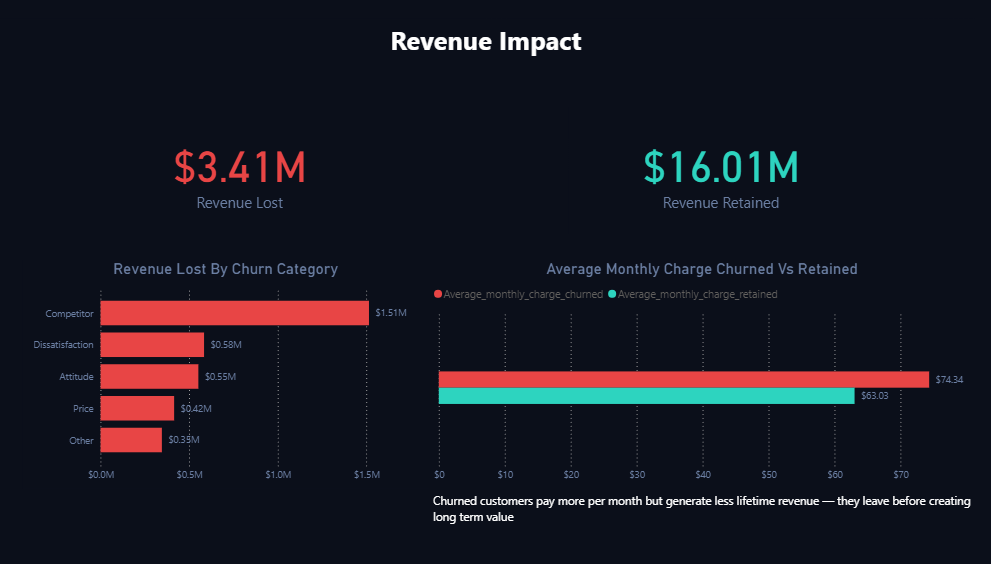

The page's visual inventory and layout, read from the dashboard file:
{"tool":"powerbi","page":{"name":"Revenue Impact","canvas":[1280,720],"ordinal":3},"visuals":[{"type":"textbox","box":[16,32,1232,80],"z":0},{"type":"card","fields":{"Values":["customer_data.Revenue_lost"]},"box":[128,144,384,160],"z":1000},{"type":"card","fields":{"Values":["customer_data.Revenue_retained"]},"box":[736,144,384,160],"z":2000},{"type":"barChart","title":"Revenue Lost By Churn Category","fields":{"Y":["customer_data.Revenue_lost"],"Category":["customer_data.Churn_Category"]},"box":[48,336,512,288],"z":3000},{"type":"clusteredBarChart","title":"Average Monthly Charge Churned Vs Retained","fields":{"Y":["customer_data.Average_monthly_charge_churned","customer_data.Average_monthly_charge_retained"]},"box":[560,336,688,288],"z":4000},{"type":"textbox","box":[560,624,688,64],"z":5000}]}

Visuals, with their boxes in screenshot pixels (x1, y1, x2, y2), scaled from the page's 1280x720 canvas onto the 991x564 screenshot:
textbox: 12, 25, 966, 88
card - customer_data.Revenue_lost: 99, 113, 396, 238
card - customer_data.Revenue_retained: 570, 113, 867, 238
"Revenue Lost By Churn Category" barChart: 37, 263, 434, 489
"Average Monthly Charge Churned Vs Retained" clusteredBarChart: 434, 263, 966, 489
textbox: 434, 489, 966, 539
